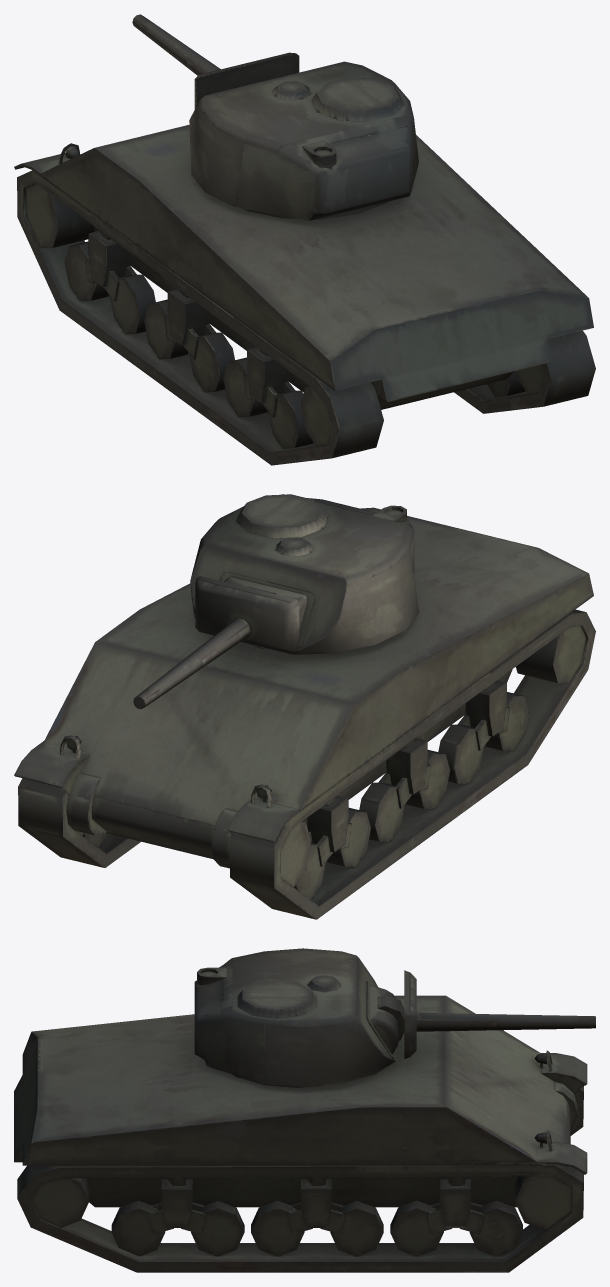
3 views of the same model, one above another, from view 1: azimuth 30°, elevation 25°; view 2: azimuth 150°, elevation 25°; view 3: azimuth 270°, elevation 25° (orthographic). The views are drawn at different scales.
Parts seen in each view (by area): view 1: M4A3 Hull, M4A3 Turret; view 2: M4A3 Hull, M4A3 Turret; view 3: M4A3 Hull, M4A3 Turret.
Boxes of the visible parts, x1,y1,x2,y2 form: M4A3 Hull: [14, 124, 595, 465]; M4A3 Turret: [132, 14, 418, 220]; M4A3 Hull: [14, 507, 595, 919]; M4A3 Turret: [133, 494, 419, 709]; M4A3 Hull: [14, 995, 587, 1272]; M4A3 Turret: [194, 948, 595, 1087].
Size of the model in its own units: 2.78 by 2.78 by 6.13.
